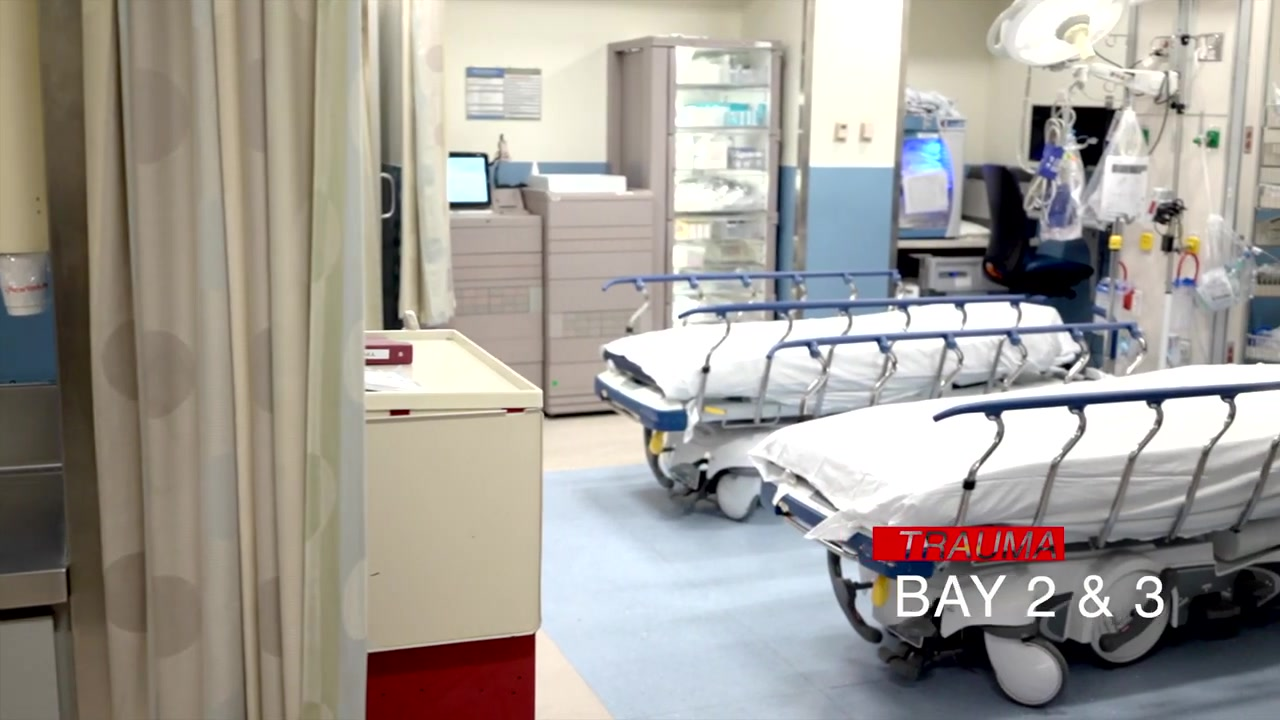bedrail: (930, 380, 1280, 566), (674, 289, 1031, 412), (766, 321, 1150, 431), (598, 269, 907, 337)
bedside_monitor: (448, 153, 491, 209)
cabinet: (613, 35, 782, 324)
chair: (984, 161, 1082, 297)
curtain: (80, 1, 379, 720), (396, 1, 456, 334)
drawer: (525, 178, 655, 415), (440, 215, 546, 393)
handle: (376, 170, 396, 221)
hospital_bed: (750, 319, 1280, 707), (591, 273, 1152, 522)
iv_pole: (1146, 32, 1212, 364), (1095, 29, 1153, 343)
surgical_light: (984, 1, 1125, 78)
